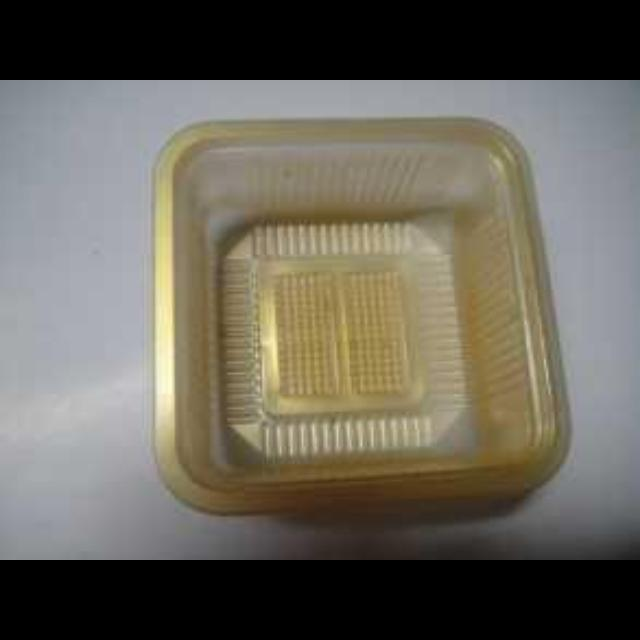plastic_box: (150, 110, 568, 510)
